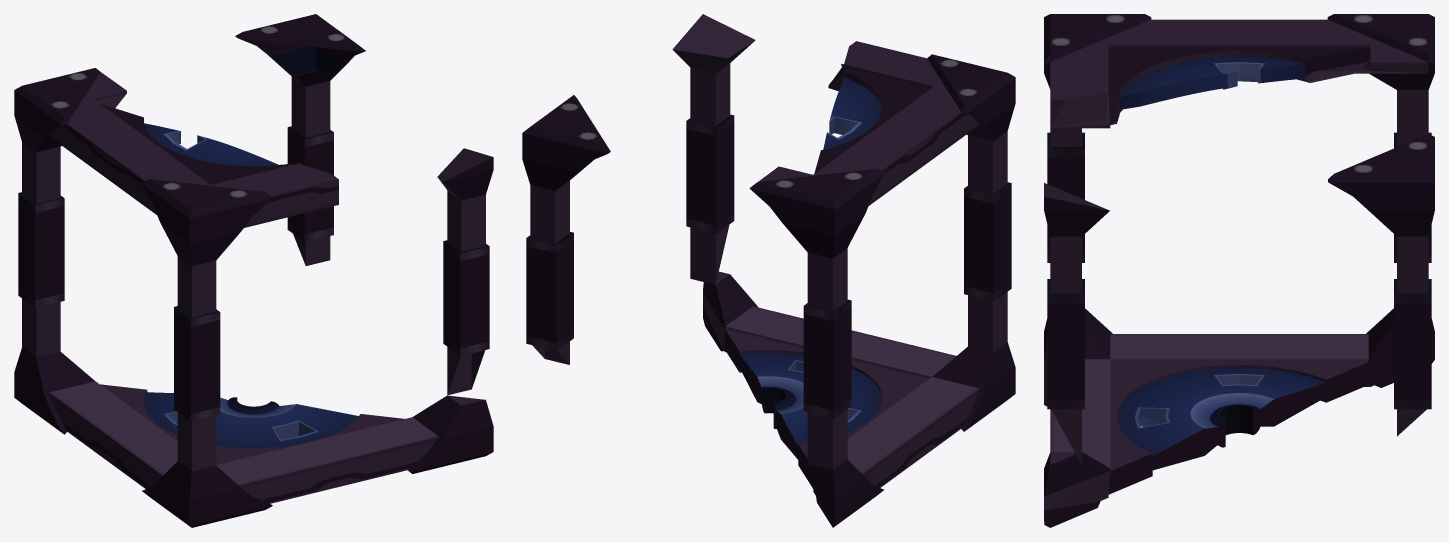
File: health_crate_fragments.glb
The picture shows the model from 3 angles, left to right: view 1: azimuth 30°, elevation 25°; view 2: azimuth 150°, elevation 25°; view 3: azimuth 270°, elevation 25°; orthographic projection. The views are drawn at different scales.
Parts seen in each view (by area): view 1: HealthCrateFragments, HealthCrateFragments.002, HealthCrateFragments.004, HealthCrateFragments.003, HealthCrateFragments.006, HealthCrateFragments.001; view 2: HealthCrateFragments, HealthCrateFragments.002, HealthCrateFragments.004, HealthCrateFragments.003, HealthCrateFragments.006, HealthCrateFragments.001; view 3: HealthCrateFragments, HealthCrateFragments.002, HealthCrateFragments.003, HealthCrateFragments.006, HealthCrateFragments.004, HealthCrateFragments.001.
Part boxes in pixels (x1,y1,x2,y2): HealthCrateFragments: (14, 347, 493, 503); HealthCrateFragments.002: (14, 68, 338, 266); HealthCrateFragments.004: (142, 224, 272, 527); HealthCrateFragments.003: (235, 14, 365, 265); HealthCrateFragments.006: (437, 148, 493, 395); HealthCrateFragments.001: (18, 136, 64, 357); HealthCrateFragments: (703, 271, 979, 527); HealthCrateFragments.002: (749, 41, 1015, 258); HealthCrateFragments.004: (932, 126, 1015, 431); HealthCrateFragments.003: (522, 95, 610, 364); HealthCrateFragments.006: (672, 14, 755, 284); HealthCrateFragments.001: (803, 214, 864, 469); HealthCrateFragments: (1044, 308, 1434, 527); HealthCrateFragments.002: (1044, 14, 1434, 128); HealthCrateFragments.003: (1328, 134, 1434, 436); HealthCrateFragments.006: (1044, 183, 1109, 464); HealthCrateFragments.004: (1044, 128, 1112, 406); HealthCrateFragments.001: (1369, 73, 1431, 262).
Bounding box in the file's own units: 1.24 × 1.24 × 1.24.
1 material, 1 textured.
